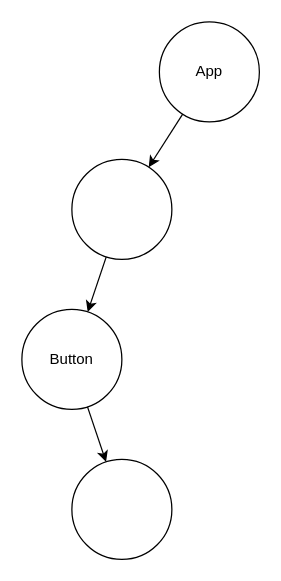
Some shapes in this 281 by 581 pixel diagram are drawn without their labels. Each missing label, with the centre of its shape:
Material Theme: the point at 121,208
Text: the point at 121,508
